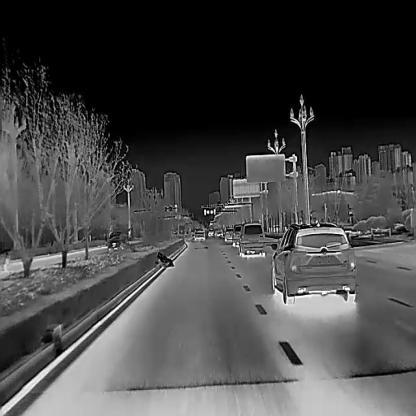car: (270, 221, 357, 304), (238, 221, 265, 257), (232, 223, 251, 247), (107, 229, 128, 250), (224, 227, 237, 244), (192, 227, 205, 241), (206, 228, 215, 238)
